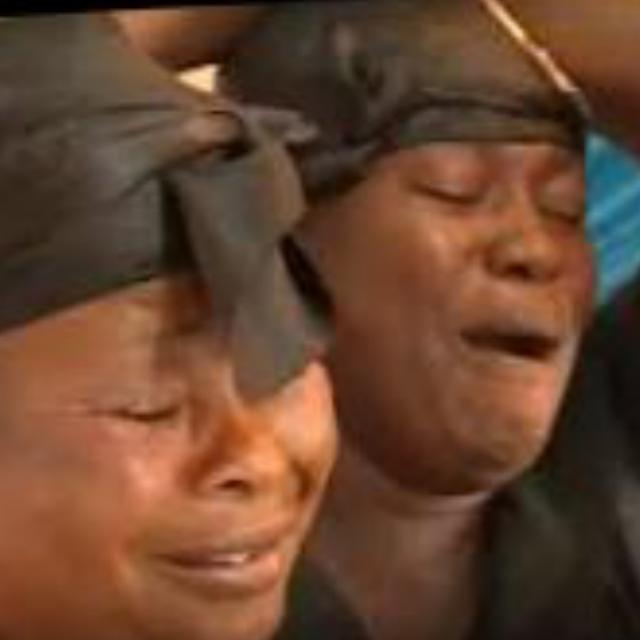Sad: (31, 122, 326, 640), (319, 32, 635, 475)
